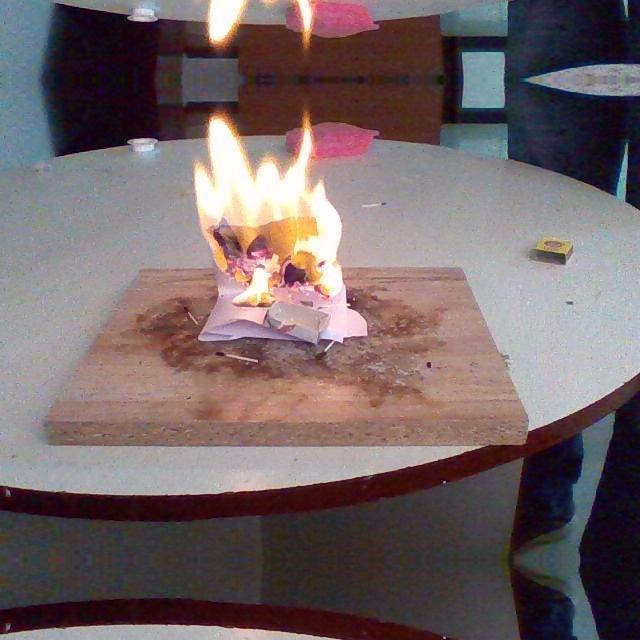smoke: (186, 110, 354, 306), (185, 0, 354, 50)
